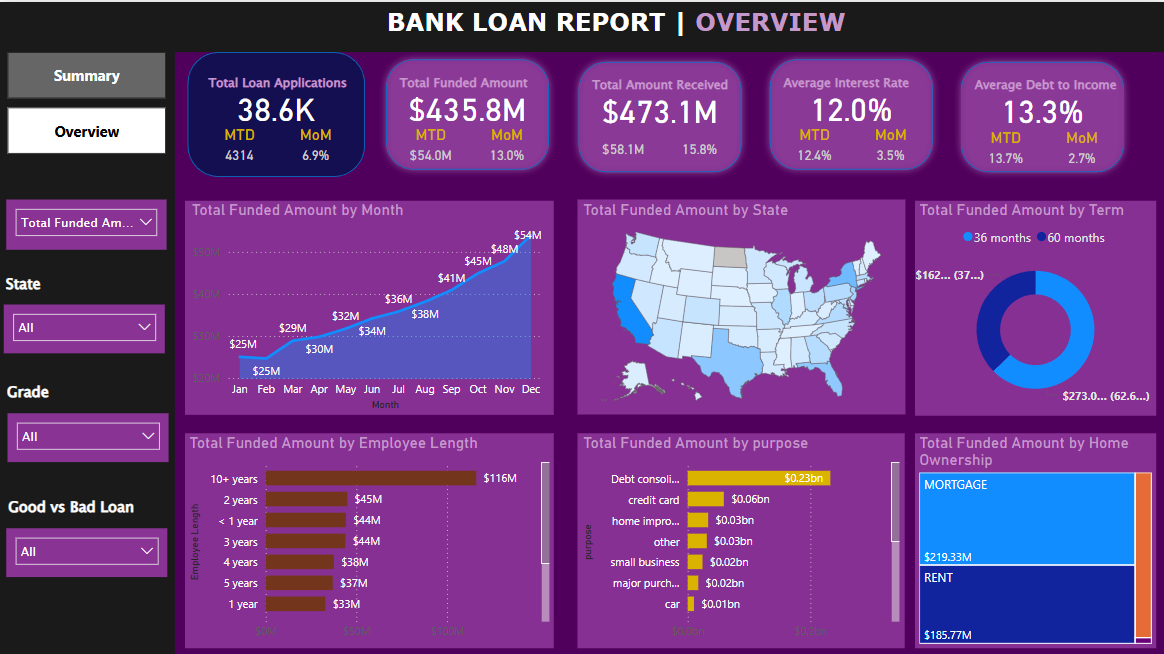

The dashboard page shown, as its layout file describes it:
{"tool":"powerbi","page":{"name":"Overview","canvas":[1280,720],"ordinal":1},"visuals":[{"type":"shape","box":[0,54.9,192.1,665.5],"z":0},{"type":"shape","box":[203.1,218.2,405,235],"z":1000},{"type":"shape","box":[0,0,1280.3,55],"z":2000},{"type":"textbox","box":[419.9,0,559.9,54.9],"z":3000},{"type":"shape","box":[205.8,54.9,194.9,137.2],"z":3000,"group":"g5"},{"type":"shape","box":[416.1,54.9,194.9,137.2],"z":3000,"group":"g1"},{"type":"shape","box":[836.7,54.9,194.9,137.2],"z":3000,"group":"g3"},{"type":"shape","box":[626.4,57.6,194.9,137.2],"z":3000,"group":"g2"},{"type":"shape","box":[1047,57.6,194.9,137.2],"z":3000,"group":"g4"},{"type":"group","id":"g1","title":"Group 1","box":[416.1,54.9,194.9,137.2],"z":4000},{"type":"card","fields":{"Values":["bank_loan_data.Total Loan Applications"]},"box":[212.7,94.7,181.1,41.2],"z":4000,"group":"g5"},{"type":"card","fields":{"Values":["bank_loan_data.Total Funded Amount"]},"box":[423,94.7,181.1,41.2],"z":4000,"group":"g1"},{"type":"card","fields":{"Values":["bank_loan_data.Avg Interest Rate"]},"box":[843.6,94.7,181.1,41.2],"z":4000,"group":"g3"},{"type":"card","fields":{"Values":["bank_loan_data.Total Amount Received"]},"box":[633.3,97.4,181.1,41.2],"z":4000,"group":"g2"},{"type":"card","fields":{"Values":["bank_loan_data.Avg DTI"]},"box":[1053.9,97.4,181.1,41.2],"z":4000,"group":"g4"},{"type":"group","id":"g2","title":"Group 1","box":[626.4,57.6,194.9,137.2],"z":5000},{"type":"textbox","box":[219.5,74.1,181.1,39.8],"z":5000,"group":"g5"},{"type":"textbox","box":[429.8,74.1,181.1,39.8],"z":5000,"group":"g1"},{"type":"textbox","box":[850.4,74.1,181.1,39.8],"z":5000,"group":"g3"},{"type":"textbox","box":[640.1,76.8,181.1,39.8],"z":5000,"group":"g2"},{"type":"textbox","box":[1060.7,76.8,181.1,39.8],"z":5000,"group":"g4"},{"type":"group","id":"g3","title":"Group 1","box":[836.7,54.9,194.9,137.2],"z":6000},{"type":"card","title":"MTD","fields":{"Values":["bank_loan_data.MTD Loan Applications"]},"box":[219.5,135.9,86.4,49.4],"z":6000,"group":"g5"},{"type":"card","title":"MTD","fields":{"Values":["bank_loan_data.MTD Funded Amount"]},"box":[429.8,135.9,86.4,49.4],"z":6000,"group":"g1"},{"type":"card","title":"MTD","fields":{"Values":["bank_loan_data.MTD Average Interest Rate"]},"box":[850.4,135.9,86.4,49.4],"z":6000,"group":"g3"},{"type":"card","title":"MTD","fields":{"Values":["bank_loan_data.MTD Amount Received"]},"box":[640.1,138.6,86.4,49.4],"z":6000,"group":"g2"},{"type":"card","title":"MTD","fields":{"Values":["bank_loan_data.MTD Average DTI"]},"box":[1060.7,138.6,86.4,49.4],"z":6000,"group":"g4"},{"type":"group","id":"g4","title":"Group 1","box":[1047,57.6,194.9,137.2],"z":7000},{"type":"card","title":"MoM","fields":{"Values":["bank_loan_data.MoM Loan Application"]},"box":[303.2,135.9,86.4,49.4],"z":7000,"group":"g5"},{"type":"card","title":"MoM","fields":{"Values":["bank_loan_data.MoM Funded Amount"]},"box":[513.5,135.9,86.4,49.4],"z":7000,"group":"g1"},{"type":"card","title":"MoM","fields":{"Values":["bank_loan_data.MoM Average Interest Rate"]},"box":[934.1,135.9,86.4,49.4],"z":7000,"group":"g3"},{"type":"card","title":"MoM","fields":{"Values":["bank_loan_data.MoM Amount Received"]},"box":[723.8,138.6,86.4,49.4],"z":7000,"group":"g2"},{"type":"card","title":"MoM","fields":{"Values":["bank_loan_data.MoM Average DTI"]},"box":[1144.4,138.6,86.4,49.4],"z":7000,"group":"g4"},{"type":"group","id":"g5","title":"Group 1","box":[205.8,54.9,194.9,137.2],"z":8000},{"type":"slicer","fields":{"Values":["bank_loan_data.address_state"]},"box":[4.1,331.6,177,53.5],"z":9000,"group":"g8"},{"type":"textbox","box":[1.4,292.3,181.1,39.8],"z":10000,"group":"g8"},{"type":"slicer","fields":{"Values":["bank_loan_data.grade"]},"box":[8.2,452,177,53.5],"z":11000,"group":"g7"},{"type":"slicer","fields":{"Values":["bank_loan_data.Good vs Bad Loan"]},"box":[6.8,577.7,177,53.5],"z":12000,"group":"g6"},{"type":"textbox","box":[4.1,537.9,181.1,39.8],"z":13000,"group":"g6"},{"type":"textbox","box":[2.7,411.7,181.1,39.8],"z":14000,"group":"g7"},{"type":"areaChart","fields":{"Y":["bank_loan_data.Total Funded Amount"],"Category":["Date Table.Month"]},"box":[205.8,218.2,393.8,234.6],"z":15000},{"type":"slicer","fields":{"Values":["Select Measure.Select Measure"]},"box":[6.9,216.8,175.6,54.9],"z":16000},{"type":"shape","box":[634,216.8,360,236],"z":17000},{"type":"shapeMap","fields":{"Value":["bank_loan_data.Total Funded Amount"],"Category":["bank_loan_data.address_state"]},"box":[635.3,218.2,356.8,234.6],"z":18000},{"type":"shape","box":[1004.5,218.2,264.8,236],"z":19000},{"type":"donutChart","fields":{"Y":["bank_loan_data.Total Funded Amount"],"Category":["bank_loan_data.term"]},"box":[1004.5,218.2,264.8,234.6],"z":20000},{"type":"shape","box":[203.1,473.4,404.8,236],"z":21000},{"type":"barChart","fields":{"Y":["bank_loan_data.Total Funded Amount"],"Category":["bank_loan_data.emp_length"]},"box":[203.1,473.4,404.8,236],"z":22000},{"type":"shape","box":[634,473.4,359.5,236],"z":23000},{"type":"barChart","fields":{"Y":["bank_loan_data.Total Funded Amount"],"Category":["bank_loan_data.purpose"]},"box":[635.3,473.4,356.8,236],"z":24000},{"type":"shape","box":[1004.5,473.4,264.8,236],"z":24001},{"type":"treemap","fields":{"Group":["bank_loan_data.home_ownership"],"Values":["bank_loan_data.Total Funded Amount"]},"box":[1004.5,473.4,264.8,236],"z":24002},{"type":"pageNavigator","box":[8.2,54.9,174.3,112.5],"z":24003,"group":"g6"},{"type":"group","id":"g6","title":"Group 2","box":[4.1,54.9,181.1,576.3],"z":24004},{"type":"group","id":"g7","title":"Group 3","box":[2.7,411.7,182.5,93.3],"z":24005},{"type":"group","id":"g8","title":"Group 4","box":[1.4,292.3,181.1,93.3],"z":24006}]}

Visuals, with their boxes in screenshot pixels (x1, y1, x2, y2), scaled from the page's 1280x720 canvas onto the 1164x654 screenshot:
shape: [left=0, top=50, right=175, bottom=653]
shape: [left=185, top=198, right=553, bottom=412]
shape: [left=0, top=0, right=1163, bottom=50]
textbox: [left=382, top=0, right=891, bottom=50]
shape: [left=187, top=50, right=364, bottom=174]
shape: [left=378, top=50, right=556, bottom=174]
shape: [left=761, top=50, right=938, bottom=174]
shape: [left=570, top=52, right=747, bottom=177]
shape: [left=952, top=52, right=1129, bottom=177]
"Group 1" group: [left=378, top=50, right=556, bottom=174]
card - bank_loan_data.Total Loan Applications: [left=193, top=86, right=358, bottom=123]
card - bank_loan_data.Total Funded Amount: [left=385, top=86, right=549, bottom=123]
card - bank_loan_data.Avg Interest Rate: [left=767, top=86, right=932, bottom=123]
card - bank_loan_data.Total Amount Received: [left=576, top=88, right=741, bottom=126]
card - bank_loan_data.Avg DTI: [left=958, top=88, right=1123, bottom=126]
"Group 1" group: [left=570, top=52, right=747, bottom=177]
textbox: [left=200, top=67, right=364, bottom=103]
textbox: [left=391, top=67, right=556, bottom=103]
textbox: [left=773, top=67, right=938, bottom=103]
textbox: [left=582, top=70, right=747, bottom=106]
textbox: [left=965, top=70, right=1129, bottom=106]
"Group 1" group: [left=761, top=50, right=938, bottom=174]
"MTD" card: [left=200, top=123, right=278, bottom=168]
"MTD" card: [left=391, top=123, right=469, bottom=168]
"MTD" card: [left=773, top=123, right=852, bottom=168]
"MTD" card: [left=582, top=126, right=661, bottom=171]
"MTD" card: [left=965, top=126, right=1043, bottom=171]
"Group 1" group: [left=952, top=52, right=1129, bottom=177]
"MoM" card: [left=276, top=123, right=354, bottom=168]
"MoM" card: [left=467, top=123, right=546, bottom=168]
"MoM" card: [left=849, top=123, right=928, bottom=168]
"MoM" card: [left=658, top=126, right=737, bottom=171]
"MoM" card: [left=1041, top=126, right=1119, bottom=171]
"Group 1" group: [left=187, top=50, right=364, bottom=174]
slicer - bank_loan_data.address_state: [left=4, top=301, right=165, bottom=350]
textbox: [left=1, top=266, right=166, bottom=302]
slicer - bank_loan_data.grade: [left=7, top=411, right=168, bottom=459]
slicer - bank_loan_data.Good vs Bad Loan: [left=6, top=525, right=167, bottom=573]
textbox: [left=4, top=489, right=168, bottom=525]
textbox: [left=2, top=374, right=167, bottom=410]
areaChart - bank_loan_data.Total Funded Amount x Date Table.Month: [left=187, top=198, right=545, bottom=411]
slicer - Select Measure.Select Measure: [left=6, top=197, right=166, bottom=247]
shape: [left=577, top=197, right=904, bottom=411]
shapeMap - bank_loan_data.Total Funded Amount x bank_loan_data.address_state: [left=578, top=198, right=902, bottom=411]
shape: [left=913, top=198, right=1154, bottom=413]
donutChart - bank_loan_data.Total Funded Amount x bank_loan_data.term: [left=913, top=198, right=1154, bottom=411]
shape: [left=185, top=430, right=553, bottom=644]
barChart - bank_loan_data.Total Funded Amount x bank_loan_data.emp_length: [left=185, top=430, right=553, bottom=644]
shape: [left=577, top=430, right=903, bottom=644]
barChart - bank_loan_data.Total Funded Amount x bank_loan_data.purpose: [left=578, top=430, right=902, bottom=644]
shape: [left=913, top=430, right=1154, bottom=644]
treemap - bank_loan_data.home_ownership x bank_loan_data.Total Funded Amount: [left=913, top=430, right=1154, bottom=644]
pageNavigator: [left=7, top=50, right=166, bottom=152]
"Group 2" group: [left=4, top=50, right=168, bottom=573]
"Group 3" group: [left=2, top=374, right=168, bottom=459]
"Group 4" group: [left=1, top=266, right=166, bottom=350]
